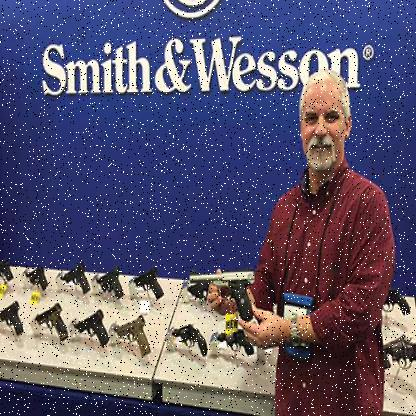pistol: (187, 266, 254, 318), (108, 315, 159, 355), (382, 329, 415, 378), (75, 305, 114, 345), (33, 303, 71, 343), (170, 320, 208, 359), (381, 279, 412, 317), (130, 267, 163, 302), (216, 327, 254, 356), (59, 263, 91, 297), (95, 266, 123, 302), (1, 302, 25, 341), (24, 266, 48, 288)
